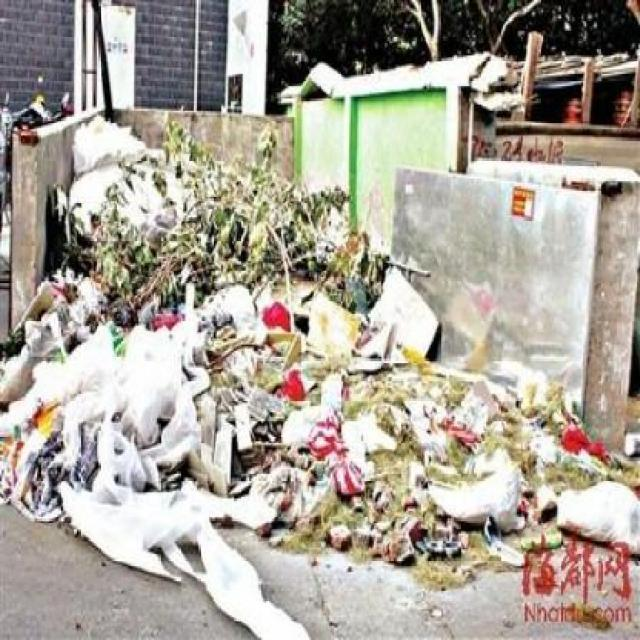garbage: (12, 246, 303, 568), (286, 325, 580, 542)
